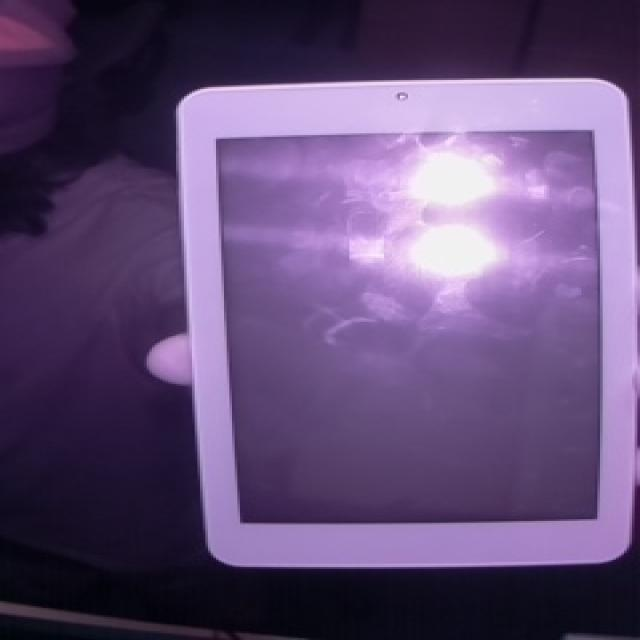phone: (158, 69, 640, 576)
